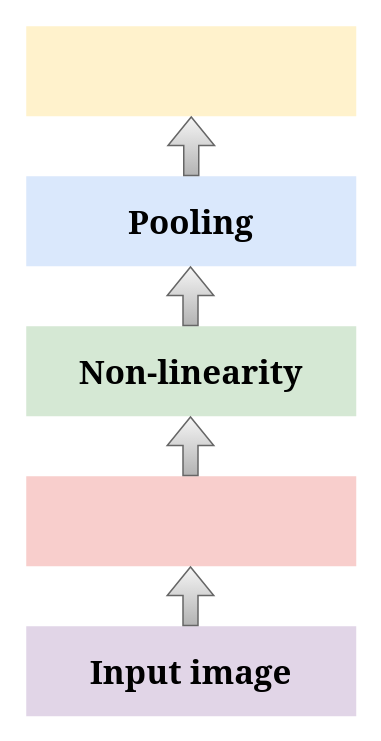
This 381x741 diagram has some shape labels left out. Here are the shapes that lost their labels. From the top down, the box of each, then its label:
(26, 26, 356, 116): Feature map
(26, 476, 356, 566): Convolution (learned)
